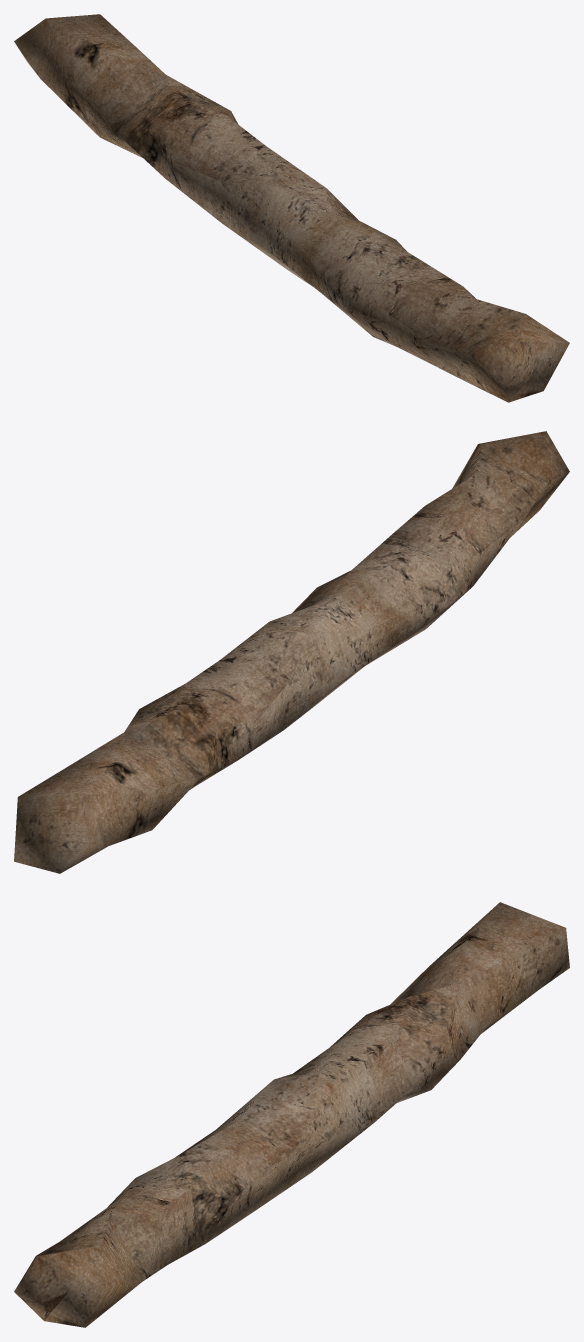
Rendered from SM_Sticks_Small_01.fbx.
3 views of the same model, one above another, from view 1: azimuth 30°, elevation 25°; view 2: azimuth 150°, elevation 25°; view 3: azimuth 330°, elevation 25° (orthographic). The views are drawn at different scales.
Visible parts, largest first — view 1: SM_Sticks_Small_01; view 2: SM_Sticks_Small_01; view 3: SM_Sticks_Small_01.
Part boxes in pixels (x1,y1,x2,y2): SM_Sticks_Small_01: (14, 14, 569, 402); SM_Sticks_Small_01: (14, 431, 569, 873); SM_Sticks_Small_01: (14, 902, 569, 1327).
Bounding box in the file's own units: 3.85 × 31.22 × 3.27.
Materials: 1 (1 with a texture image).
